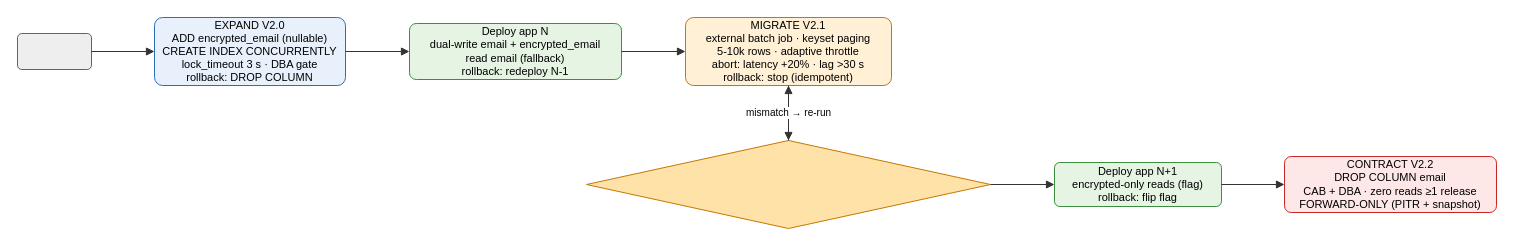
The diagram is 1514 pixels wide and 246 high, and some of its shapes have lost their labels. The shapes that lost their labels are listed below. From the top down, each one's box as (x1, y1, x2, y2) in pixels, then its label:
(16, 32, 92, 70): S0 original email
(586, 140, 990, 228): VERIFY count + checksum = 0 diff shadow-read mismatch 0 for 24 h
